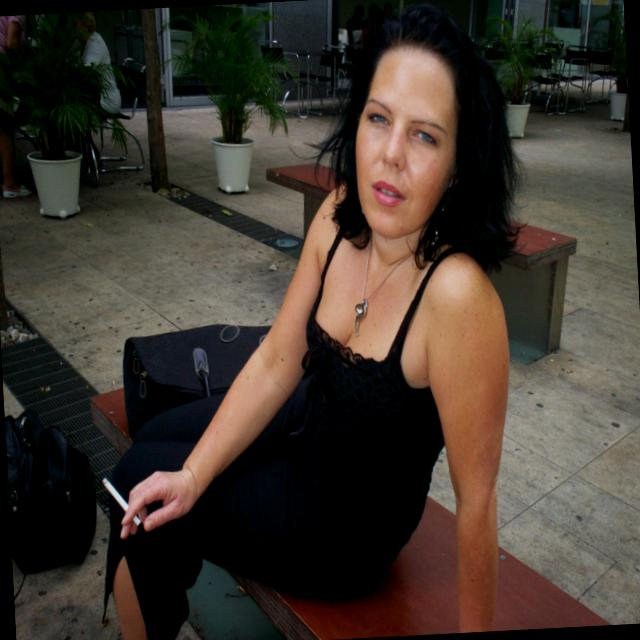cigarette: (92, 459, 144, 532)
